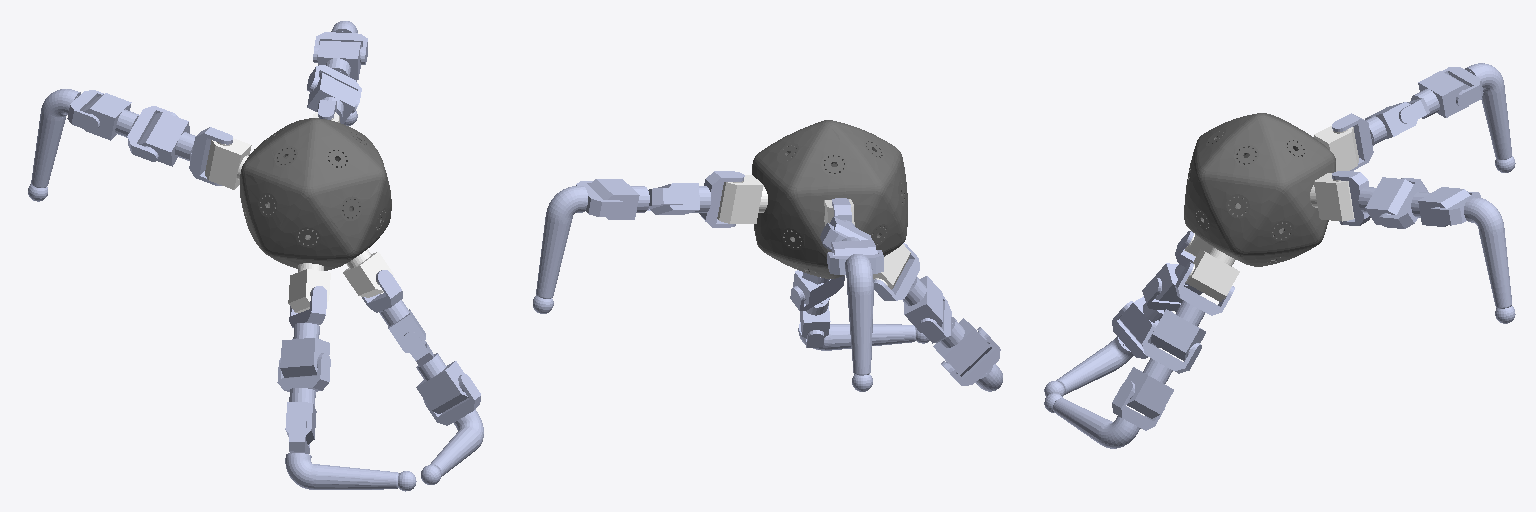
robot.urdf — mod_test:
<?xml version="1.0" encoding="utf-8"?>
<robot
  name="mod_test">
  <link
    name="base_link">
    <inertial>
      <origin
        xyz="-1.5226495220944E-06 1.5812928362389E-07 -5.05247252856584E-07"
        rpy="0 0 0" />
      <mass
        value="0.422806992949252" />
      <inertia
        ixx="0.00237499139253511"
        ixy="1.5717831530364E-08"
        ixz="1.49286265366169E-08"
        iyy="0.00237502154661776"
        iyz="-2.02154172619351E-08"
        izz="0.00237502595466009" />
    </inertial>
    <visual>
      <origin
        xyz="0 0 0"
        rpy="0 0 0" />
      <geometry>
        <mesh
          filename="package://meshes/base_link.STL" />
      </geometry>
      <material
        name="">
        <color
          rgba="0.498039215686275 0.498039215686275 0.498039215686275 1" />
      </material>
    </visual>
    <collision>
      <origin
        xyz="0 0 0"
        rpy="0 0 0" />
      <geometry>
        <mesh
          filename="package://meshes/base_link.STL" />
      </geometry>
    </collision>
  </link>
  <link
   name="70">
   <inertial>
      <origin
        xyz="0 0 0.028508"
        rpy="0 0 0" />
      <mass
        value="0.076173" />
      <inertia
        ixx="3.054E-05"
        ixy="-0.000000"
        ixz="-0.000000"
        iyy="2.1077E-05"
        iyz="0.000000"
        izz="2.1165E-05" />
    </inertial>
    <visual>
      <origin
        xyz="0 0 0"
        rpy="0 0 0" />
      <geometry>
        <mesh
          filename="package://meshes/1.STL" />
      </geometry>
      <material
        name="">
        <color
          rgba="1 1 1 1" />
      </material>
    </visual>
    <collision>
      <origin
        xyz="0 0 0"
        rpy="0 0 0" />
      <geometry>
        <mesh
          filename="package://meshes/1.STL" />
      </geometry>
    </collision>
  </link>
  <joint
    name="body_70"
    type="fixed">
    <origin
        xyz="0.051620 0.071049 0.016769"
        rpy="-1.382126 -0.000000 -0.628319" />
    <parent
      link="base_link" />
    <child
      link="70" />
    <axis
      xyz="0 0 0" />
  </joint>
  <link
    name="71">
    <inertial>
      <origin
        xyz="0.060018 -1.4108E-06 1.4108E-06"
        rpy="0 0 0" />
    <mass
        value="0.10689" />
      <inertia
        ixx="3.2684e-05"
        ixy="-2.5662e-09"
        ixz="2.5662e-09"
        iyy="8.6498e-05"
        iyz="-4.0975e-06"
        izz="8.2217e-05" />
    </inertial>
    <visual>
      <origin
        xyz="0 0 0"
        rpy="0 0 0" />
      <geometry>
        <mesh
          filename="package://meshes/module10.STL" />
      </geometry>
      <material
        name="">
        <color
          rgba="0.79216 0.81961 0.93333 1" />
      </material>
    </visual>
    <collision>
      <origin
        xyz="0 0 0"
        rpy="0 0 0" />
      <geometry>
        <mesh
          filename="package://meshes/module10.STL" />
      </geometry>
    </collision>
  </link>
  <joint
    name="70_71"
    type="revolute">
    <origin
      xyz="0 0 0.04"
      rpy="-1.558 -1.5708 -0.012835" />
    <parent
      link="70" />
    <child
      link="71" />
    <axis
      xyz="0 0 1" />
    <limit
      lower="-6.28"
      upper="6.28"
      effort="10"
      velocity="100" />
  </joint>
  <link
    name="72">
    <inertial>
      <origin
        xyz="0.060018 -1.4108E-06 1.4108E-06"
        rpy="0 0 0" />
    <mass
        value="0.10689" />
      <inertia
        ixx="3.2684e-05"
        ixy="-2.5662e-09"
        ixz="2.5662e-09"
        iyy="9.1229e-05"
        iyz="-4.0975e-06"
        izz="7.7485e-05" />
    </inertial>
    <visual>
      <origin
        xyz="0 0 0"
        rpy="0 0 0" />
      <geometry>
        <mesh
          filename="package://meshes/module11.STL" />
      </geometry>
      <material
        name="">
        <color
          rgba="0.79216 0.81961 0.93333 1" />
      </material>
    </visual>
    <collision>
      <origin
        xyz="0 0 0"
        rpy="0 0 0" />
      <geometry>
        <mesh
          filename="package://meshes/module11.STL" />
      </geometry>
    </collision>
  </link>
  <joint
    name="71_72"
    type="revolute">
    <origin
      xyz="0.0816 0 0"
      rpy="5.235988 0 0" />
    <parent
      link="71" />
    <child
      link="72" />
    <axis
      xyz="0 0 1" />
    <limit
      lower="-6.28"
      upper="6.28"
      effort="10"
      velocity="100" />
  </joint>
  <link
    name="73">
    <inertial>
      <origin
        xyz="0.051733 -0.042281 -1.3878E-17"
        rpy="0 0 0" />
    <mass
        value="0.12059" />
      <inertia
        ixx="0.00025425"
        ixy="4.8319E-05"
        ixz="0"
        iyy="5.0194E-05"
        iyz="-3.3141E-21"
        izz="0.00027482" />
    </inertial>
    <visual>
      <origin
        xyz="0 0 0"
        rpy="0 0 0" />
      <geometry>
        <mesh
          filename="package://meshes/leg.STL" />
      </geometry>
      <material
        name="">
        <color
          rgba="0.79216 0.81961 0.93333 1" />
      </material>
    </visual>
    <collision>
      <origin
        xyz="0 0 0"
        rpy="0 0 0" />
      <geometry>
        <mesh
          filename="package://meshes/leg.STL" />
      </geometry>
    </collision>
  </link>
  <joint
    name="72_73"
    type="revolute">
    <origin
      xyz="0.0816 0 0"
      rpy="5.759587 0 0" />
    <parent
      link="72" />
    <child
      link="73" />
    <axis
      xyz="0 0 1" />
    <limit
      lower="-6.28"
      upper="6.28"
      effort="10"
      velocity="100" />
  </joint>
  <link
   name="150">
   <inertial>
      <origin
        xyz="0 0 0.028508"
        rpy="0 0 0" />
      <mass
        value="0.076173" />
      <inertia
        ixx="3.054E-05"
        ixy="0.000000"
        ixz="-0.000000"
        iyy="2.1077E-05"
        iyz="0.000021"
        izz="2.1165E-05" />
    </inertial>
    <visual>
      <origin
        xyz="0 0 0"
        rpy="0 0 0" />
      <geometry>
        <mesh
          filename="package://meshes/1.STL" />
      </geometry>
      <material
        name="">
        <color
          rgba="1 1 1 1" />
      </material>
    </visual>
    <collision>
      <origin
        xyz="0 0 0"
        rpy="0 0 0" />
      <geometry>
        <mesh
          filename="package://meshes/1.STL" />
      </geometry>
    </collision>
  </link>
  <joint
    name="body_150"
    type="fixed">
    <origin
        xyz="0.031905 -0.043913 -0.071046"
        rpy="2.557073 -0.308415 0.198189" />
    <parent
      link="base_link" />
    <child
      link="150" />
    <axis
      xyz="0 0 0" />
  </joint>
  <link
    name="151">
    <inertial>
      <origin
        xyz="0.060018 -1.4108E-06 1.4108E-06"
        rpy="0 0 0" />
    <mass
        value="0.10689" />
      <inertia
        ixx="3.2684e-05"
        ixy="-2.5662e-09"
        ixz="2.5662e-09"
        iyy="9.1229e-05"
        iyz="4.0975e-06"
        izz="7.7485e-05" />
    </inertial>
    <visual>
      <origin
        xyz="0 0 0"
        rpy="0 0 0" />
      <geometry>
        <mesh
          filename="package://meshes/module1.STL" />
      </geometry>
      <material
        name="">
        <color
          rgba="0.79216 0.81961 0.93333 1" />
      </material>
    </visual>
    <collision>
      <origin
        xyz="0 0 0"
        rpy="0 0 0" />
      <geometry>
        <mesh
          filename="package://meshes/module1.STL" />
      </geometry>
    </collision>
  </link>
  <joint
    name="150_151"
    type="revolute">
    <origin
      xyz="0 0 0.04"
      rpy="-1.558 -1.5708 -0.012835" />
    <parent
      link="150" />
    <child
      link="151" />
    <axis
      xyz="0 0 1" />
    <limit
      lower="-6.28"
      upper="6.28"
      effort="10"
      velocity="100" />
  </joint>
  <link
    name="152">
    <inertial>
      <origin
        xyz="0.060018 -1.4108E-06 1.4108E-06"
        rpy="0 0 0" />
    <mass
        value="0.10689" />
      <inertia
        ixx="3.2684e-05"
        ixy="-2.5662e-09"
        ixz="2.5662e-09"
        iyy="8.6498e-05"
        iyz="-4.0975e-06"
        izz="8.2217e-05" />
    </inertial>
    <visual>
      <origin
        xyz="0 0 0"
        rpy="0 0 0" />
      <geometry>
        <mesh
          filename="package://meshes/module10.STL" />
      </geometry>
      <material
        name="">
        <color
          rgba="0.79216 0.81961 0.93333 1" />
      </material>
    </visual>
    <collision>
      <origin
        xyz="0 0 0"
        rpy="0 0 0" />
      <geometry>
        <mesh
          filename="package://meshes/module10.STL" />
      </geometry>
    </collision>
  </link>
  <joint
    name="151_152"
    type="revolute">
    <origin
      xyz="0.0816 0 0"
      rpy="0.523599 0 0" />
    <parent
      link="151" />
    <child
      link="152" />
    <axis
      xyz="0 0 1" />
    <limit
      lower="-6.28"
      upper="6.28"
      effort="10"
      velocity="100" />
  </joint>
  <link
    name="153">
    <inertial>
      <origin
        xyz="0.051733 -0.042281 -1.3878E-17"
        rpy="0 0 0" />
    <mass
        value="0.12059" />
      <inertia
        ixx="0.00025425"
        ixy="4.8319E-05"
        ixz="0"
        iyy="5.0194E-05"
        iyz="-3.3141E-21"
        izz="0.00027482" />
    </inertial>
    <visual>
      <origin
        xyz="0 0 0"
        rpy="0 0 0" />
      <geometry>
        <mesh
          filename="package://meshes/leg.STL" />
      </geometry>
      <material
        name="">
        <color
          rgba="0.79216 0.81961 0.93333 1" />
      </material>
    </visual>
    <collision>
      <origin
        xyz="0 0 0"
        rpy="0 0 0" />
      <geometry>
        <mesh
          filename="package://meshes/leg.STL" />
      </geometry>
    </collision>
  </link>
  <joint
    name="152_153"
    type="revolute">
    <origin
      xyz="0.0816 0 0"
      rpy="5.235988 0 0" />
    <parent
      link="152" />
    <child
      link="153" />
    <axis
      xyz="0 0 1" />
    <limit
      lower="-6.28"
      upper="6.28"
      effort="10"
      velocity="100" />
  </joint>
  <link
   name="190">
   <inertial>
      <origin
        xyz="0 0 0.028508"
        rpy="0 0 0" />
      <mass
        value="0.076173" />
      <inertia
        ixx="3.054E-05"
        ixy="0.000000"
        ixz="-0.000000"
        iyy="2.1077E-05"
        iyz="-0.000000"
        izz="2.1165E-05" />
    </inertial>
    <visual>
      <origin
        xyz="0 0 0"
        rpy="0 0 0" />
      <geometry>
        <mesh
          filename="package://meshes/1.STL" />
      </geometry>
      <material
        name="">
        <color
          rgba="1 1 1 1" />
      </material>
    </visual>
    <collision>
      <origin
        xyz="0 0 0"
        rpy="0 0 0" />
      <geometry>
        <mesh
          filename="package://meshes/1.STL" />
      </geometry>
    </collision>
  </link>
  <joint
    name="body_190"
    type="fixed">
    <origin
        xyz="-0.031905 -0.043913 -0.071046"
        rpy="-2.557073 -0.308415 2.943404" />
    <parent
      link="base_link" />
    <child
      link="190" />
    <axis
      xyz="0 0 0" />
  </joint>
  <link
    name="191">
    <inertial>
      <origin
        xyz="0.060018 -1.4108E-06 1.4108E-06"
        rpy="0 0 0" />
    <mass
        value="0.10689" />
      <inertia
        ixx="3.2684e-05"
        ixy="-2.5662e-09"
        ixz="2.5662e-09"
        iyy="9.1229e-05"
        iyz="-4.0975e-06"
        izz="7.7485e-05" />
    </inertial>
    <visual>
      <origin
        xyz="0 0 0"
        rpy="0 0 0" />
      <geometry>
        <mesh
          filename="package://meshes/module11.STL" />
      </geometry>
      <material
        name="">
        <color
          rgba="0.79216 0.81961 0.93333 1" />
      </material>
    </visual>
    <collision>
      <origin
        xyz="0 0 0"
        rpy="0 0 0" />
      <geometry>
        <mesh
          filename="package://meshes/module11.STL" />
      </geometry>
    </collision>
  </link>
  <joint
    name="190_191"
    type="revolute">
    <origin
      xyz="0 0 0.04"
      rpy="-1.558 -1.5708 -0.012835" />
    <parent
      link="190" />
    <child
      link="191" />
    <axis
      xyz="0 0 1" />
    <limit
      lower="-6.28"
      upper="6.28"
      effort="10"
      velocity="100" />
  </joint>
  <link
    name="192">
    <inertial>
      <origin
        xyz="0.060018 -1.4108E-06 1.4108E-06"
        rpy="0 0 0" />
    <mass
        value="0.10689" />
      <inertia
        ixx="3.2684e-05"
        ixy="-2.5662e-09"
        ixz="2.5662e-09"
        iyy="8.6498e-05"
        iyz="4.0975e-06"
        izz="8.2217e-05" />
    </inertial>
    <visual>
      <origin
        xyz="0 0 0"
        rpy="0 0 0" />
      <geometry>
        <mesh
          filename="package://meshes/module2.STL" />
      </geometry>
      <material
        name="">
        <color
          rgba="0.79216 0.81961 0.93333 1" />
      </material>
    </visual>
    <collision>
      <origin
        xyz="0 0 0"
        rpy="0 0 0" />
      <geometry>
        <mesh
          filename="package://meshes/module2.STL" />
      </geometry>
    </collision>
  </link>
  <joint
    name="191_192"
    type="revolute">
    <origin
      xyz="0.0816 0 0"
      rpy="5.759587 0 0" />
    <parent
      link="191" />
    <child
      link="192" />
    <axis
      xyz="0 0 1" />
    <limit
      lower="-6.28"
      upper="6.28"
      effort="10"
      velocity="100" />
  </joint>
  <link
    name="193">
    <inertial>
      <origin
        xyz="0.051733 -0.042281 -1.3878E-17"
        rpy="0 0 0" />
    <mass
        value="0.12059" />
      <inertia
        ixx="0.00025425"
        ixy="4.8319E-05"
        ixz="0"
        iyy="5.0194E-05"
        iyz="-3.3141E-21"
        izz="0.00027482" />
    </inertial>
    <visual>
      <origin
        xyz="0 0 0"
        rpy="0 0 0" />
      <geometry>
        <mesh
          filename="package://meshes/leg.STL" />
      </geometry>
      <material
        name="">
        <color
          rgba="0.79216 0.81961 0.93333 1" />
      </material>
    </visual>
    <collision>
      <origin
        xyz="0 0 0"
        rpy="0 0 0" />
      <geometry>
        <mesh
          filename="package://meshes/leg.STL" />
      </geometry>
    </collision>
  </link>
  <joint
    name="192_193"
    type="revolute">
    <origin
      xyz="0.0816 0 0"
      rpy="1.047198 0 0" />
    <parent
      link="192" />
    <child
      link="193" />
    <axis
      xyz="0 0 1" />
    <limit
      lower="-6.28"
      upper="6.28"
      effort="10"
      velocity="100" />
  </joint>
  <link
   name="80">
   <inertial>
      <origin
        xyz="0 0 0.028508"
        rpy="0 0 0" />
      <mass
        value="0.076173" />
      <inertia
        ixx="3.054E-05"
        ixy="-0.000000"
        ixz="-0.000000"
        iyy="2.1077E-05"
        iyz="-0.000000"
        izz="2.1165E-05" />
    </inertial>
    <visual>
      <origin
        xyz="0 0 0"
        rpy="0 0 0" />
      <geometry>
        <mesh
          filename="package://meshes/1.STL" />
      </geometry>
      <material
        name="">
        <color
          rgba="1 1 1 1" />
      </material>
    </visual>
    <collision>
      <origin
        xyz="0 0 0"
        rpy="0 0 0" />
      <geometry>
        <mesh
          filename="package://meshes/1.STL" />
      </geometry>
    </collision>
  </link>
  <joint
    name="body_80"
    type="fixed">
    <origin
        xyz="-0.051620 0.071049 0.016769"
        rpy="1.382126 -0.000000 -2.513274" />
    <parent
      link="base_link" />
    <child
      link="80" />
    <axis
      xyz="0 0 0" />
  </joint>
  <link
    name="81">
    <inertial>
      <origin
        xyz="0.060018 -1.4108E-06 1.4108E-06"
        rpy="0 0 0" />
    <mass
        value="0.10689" />
      <inertia
        ixx="3.2684e-05"
        ixy="-2.5662e-09"
        ixz="2.5662e-09"
        iyy="8.6498e-05"
        iyz="4.0975e-06"
        izz="8.2217e-05" />
    </inertial>
    <visual>
      <origin
        xyz="0 0 0"
        rpy="0 0 0" />
      <geometry>
        <mesh
          filename="package://meshes/module2.STL" />
      </geometry>
      <material
        name="">
        <color
          rgba="0.79216 0.81961 0.93333 1" />
      </material>
    </visual>
    <collision>
      <origin
        xyz="0 0 0"
        rpy="0 0 0" />
      <geometry>
        <mesh
          filename="package://meshes/module2.STL" />
      </geometry>
    </collision>
  </link>
  <joint
    name="80_81"
    type="revolute">
    <origin
      xyz="0 0 0.04"
      rpy="-1.558 -1.5708 -0.012835" />
    <parent
      link="80" />
    <child
      link="81" />
    <axis
      xyz="0 0 1" />
    <limit
      lower="-6.28"
      upper="6.28"
      effort="10"
      velocity="100" />
  </joint>
  <link
    name="82">
    <inertial>
      <origin
        xyz="0.060018 -1.4108E-06 1.4108E-06"
        rpy="0 0 0" />
    <mass
        value="0.10689" />
      <inertia
        ixx="3.2684e-05"
        ixy="-2.5662e-09"
        ixz="2.5662e-09"
        iyy="9.1229e-05"
        iyz="4.0975e-06"
        izz="7.7485e-05" />
    </inertial>
    <visual>
      <origin
        xyz="0 0 0"
        rpy="0 0 0" />
      <geometry>
        <mesh
          filename="package://meshes/module1.STL" />
      </geometry>
      <material
        name="">
        <color
          rgba="0.79216 0.81961 0.93333 1" />
      </material>
    </visual>
    <collision>
      <origin
        xyz="0 0 0"
        rpy="0 0 0" />
      <geometry>
        <mesh
          filename="package://meshes/module1.STL" />
      </geometry>
    </collision>
  </link>
  <joint
    name="81_82"
    type="revolute">
    <origin
      xyz="0.0816 0 0"
      rpy="1.047198 0 0" />
    <parent
      link="81" />
    <child
      link="82" />
    <axis
      xyz="0 0 1" />
    <limit
      lower="-6.28"
      upper="6.28"
      effort="10"
      velocity="100" />
  </joint>
  <link
    name="83">
    <inertial>
      <origin
        xyz="0.051733 -0.042281 -1.3878E-17"
        rpy="0 0 0" />
    <mass
        value="0.12059" />
      <inertia
        ixx="0.00025425"
        ixy="4.8319E-05"
        ixz="0"
        iyy="5.0194E-05"
        iyz="-3.3141E-21"
        izz="0.00027482" />
    </inertial>
    <visual>
      <origin
        xyz="0 0 0"
        rpy="0 0 0" />
      <geometry>
        <mesh
          filename="package://meshes/leg.STL" />
      </geometry>
      <material
        name="">
        <color
          rgba="0.79216 0.81961 0.93333 1" />
      </material>
    </visual>
    <collision>
      <origin
        xyz="0 0 0"
        rpy="0 0 0" />
      <geometry>
        <mesh
          filename="package://meshes/leg.STL" />
      </geometry>
    </collision>
  </link>
  <joint
    name="82_83"
    type="revolute">
    <origin
      xyz="0.0816 0 0"
      rpy="0.523599 0 0" />
    <parent
      link="82" />
    <child
      link="83" />
    <axis
      xyz="0 0 1" />
    <limit
      lower="-6.28"
      upper="6.28"
      effort="10"
      velocity="100" />
  </joint>
  <link
    name = "ball_1">
    <inertial>
    <origin
        xyz="0 0 0"
        rpy="0 0 0" />
    <mass
        value="0" />
      <inertia
        ixx="0"
        ixy="0"
        ixz="0"
        iyy="0"
        iyz="0"
        izz="0" />
    </inertial>    <visual>
      <origin
        xyz="0 0 0"
        rpy="0 0 0" />
     <geometry>
        <sphere radius = "0.01"/>
      </geometry>
      <material
        name="green">
        <color
          rgba="0.22 1 0.4 1" />
      </material>
    </visual>
  </link>
  <joint
  name="73_ball1"
  type="fixed">
    <origin
      xyz="0.0612 -0.13431 0"
      rpy="0 0 0" />
    <parent
      link="73" />
    <child
      link="ball_1" />
    <axis
      xyz="0 0 0" />
  </joint>
  <link
    name = "ball_2">
    <inertial>
    <origin
        xyz="0 0 0"
        rpy="0 0 0" />
    <mass
        value="0" />
      <inertia
        ixx="0"
        ixy="0"
        ixz="0"
        iyy="0"
        iyz="0"
        izz="0" />
    </inertial>    <visual>
      <origin
        xyz="0 0 0"
        rpy="0 0 0" />
      <geometry>
        <sphere radius = "0.01"/>
      </geometry>
      <material
        name="blue">
        <color
          rgba="0.16 0.52 0.8 1" />
      </material>
    </visual>
  </link>
  <joint
  name="153_ball2"
  type="fixed">
    <origin
      xyz="0.0612 -0.13431 0"
      rpy="0 0 0" />
    <parent
      link="153" />
    <child
      link="ball_2" />
    <axis
      xyz="0 0 0" />
  </joint>
  <link
    name = "ball_3">
    <inertial>
    <origin
        xyz="0 0 0"
        rpy="0 0 0" />
    <mass
        value="0" />
      <inertia
        ixx="0"
        ixy="0"
        ixz="0"
        iyy="0"
        iyz="0"
        izz="0" />
    </inertial>    <visual>
      <origin
        xyz="0 0 0"
        rpy="0 0 0" />
     <geometry>
        <sphere radius = "0.01"/>
      </geometry>
      <material
        name="blue">
        <color
          rgba="0.16 0.52 0.8 1" />
      </material>
    </visual>
  </link>
  <joint
  name="193_ball3"
  type="fixed">
    <origin
      xyz="0.0612 -0.13431 0"
      rpy="0 0 0" />
    <parent
      link="193" />
    <child
      link="ball_3" />
    <axis
      xyz="0 0 0" />
  </joint>
  <link
    name = "ball_4">
    <inertial>
    <origin
        xyz="0 0 0"
        rpy="0 0 0" />
    <mass
        value="0" />
      <inertia
        ixx="0"
        ixy="0"
        ixz="0"
        iyy="0"
        iyz="0"
        izz="0" />
    </inertial>    <visual>
      <origin
        xyz="0 0 0"
        rpy="0 0 0" />
      <geometry>
        <sphere radius = "0.01"/>
      </geometry>
      <material
        name="yellow">
        <color
          rgba="1 1 0 1" />
      </material>
    </visual>
  </link>
  <joint
  name="83_ball4"
  type="fixed">
    <origin
      xyz="0.0612 -0.13431 0"
      rpy="0 0 0" />
    <parent
      link="83" />
    <child
      link="ball_4" />
    <axis
      xyz="0 0 0" />
  </joint>
</robot>

--- What the picture shows (computed from the rendered views, not written in the file) ---
3 views of the same robot in one strip: view 1: azimuth 30°, elevation 25°; view 2: azimuth 150°, elevation 25°; view 3: azimuth 270°, elevation 25° (orthographic).
Model mod_test with 21 links and 20 joints (12 revolute, 8 fixed), rooted at base_link, posed all joints at 0.
Links seen in each view (by area): view 1: base_link, 193, 83, 81, 153, 191, 152, 82, 192, 151, 72, 71 (+4 smaller); view 2: base_link, 73, 83, 192, 191, 71, 72, 153, 70, 193, 152, 82 (+3 smaller); view 3: base_link, 73, 83, 153, 151, 152, 193, 71, 81, 82, 72, 150 (+4 smaller).
Boxes of the visible links, x1=… form: base_link: x1=240, y1=118, x2=391, y2=270; 193: x1=285, y1=414, x2=416, y2=491; 83: x1=28, y1=89, x2=103, y2=201; 81: x1=139, y1=112, x2=232, y2=185; 153: x1=421, y1=374, x2=483, y2=484; 191: x1=280, y1=286, x2=329, y2=377; 152: x1=403, y1=332, x2=468, y2=413; 82: x1=83, y1=93, x2=177, y2=161; 192: x1=277, y1=353, x2=330, y2=444; 151: x1=362, y1=270, x2=425, y2=352; 72: x1=307, y1=41, x2=361, y2=113; 71: x1=307, y1=73, x2=357, y2=123; base_link: x1=752, y1=120, x2=907, y2=278; 73: x1=533, y1=181, x2=626, y2=313; 83: x1=827, y1=250, x2=883, y2=391; 192: x1=919, y1=296, x2=991, y2=376; 191: x1=874, y1=243, x2=942, y2=332; 71: x1=650, y1=171, x2=744, y2=227; 72: x1=589, y1=179, x2=689, y2=219; 153: x1=798, y1=322, x2=929, y2=350; 70: x1=717, y1=175, x2=767, y2=223; 193: x1=941, y1=327, x2=1002, y2=391; 152: x1=790, y1=275, x2=844, y2=338; 82: x1=820, y1=223, x2=877, y2=255; base_link: x1=1184, y1=113, x2=1335, y2=266; 73: x1=1427, y1=191, x2=1515, y2=323; 83: x1=1442, y1=63, x2=1515, y2=172; 153: x1=1044, y1=380, x2=1165, y2=448; 151: x1=1151, y1=262, x2=1234, y2=361; 152: x1=1125, y1=320, x2=1201, y2=418; 193: x1=1044, y1=301, x2=1159, y2=396; 71: x1=1332, y1=171, x2=1413, y2=225; 81: x1=1332, y1=102, x2=1417, y2=170; 82: x1=1399, y1=71, x2=1469, y2=123; 72: x1=1378, y1=178, x2=1470, y2=228; 150: x1=1185, y1=247, x2=1239, y2=301.
Bounding box of the posed robot: 0.4632 × 0.5794 × 0.3994 m (x, y, z).
Meshes: 7 distinct files referenced, 17 mesh visuals loaded (7 binary STL).